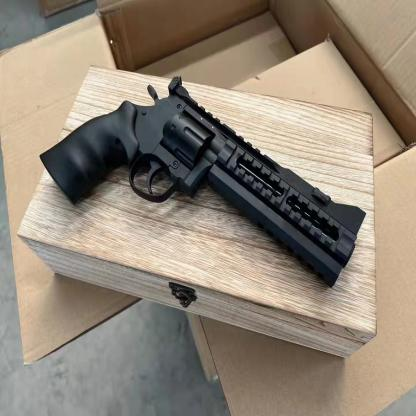handgun: (41, 78, 376, 297)
